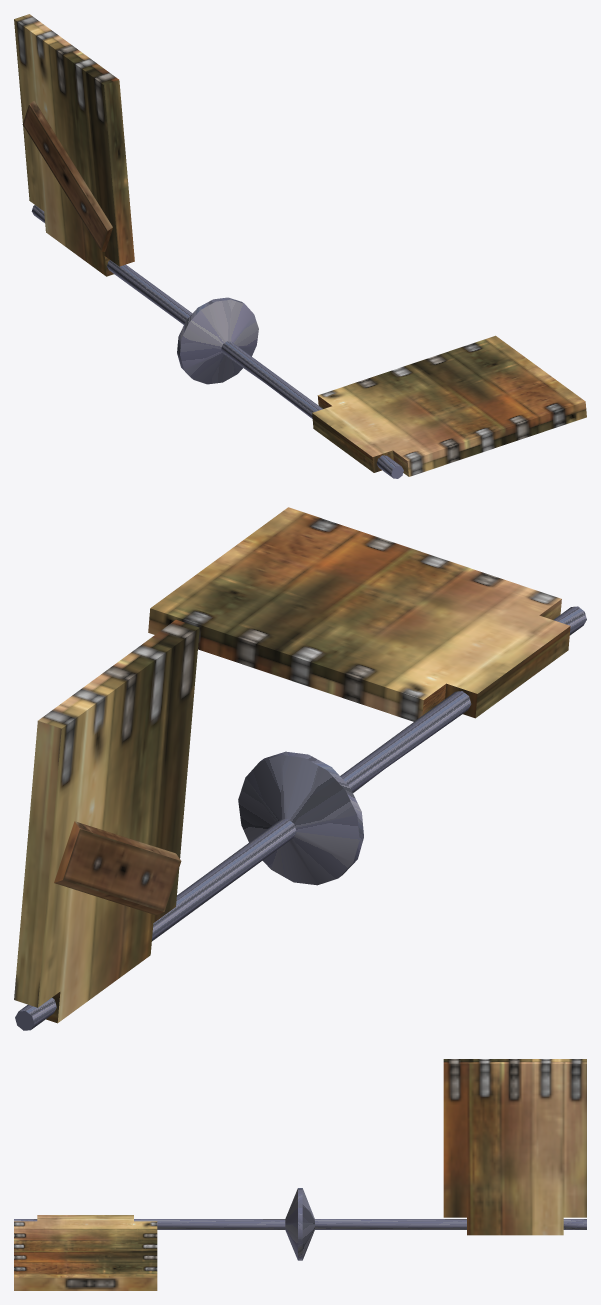
Rendered from P_Modul_19.FBX.
3 views of the same model, one above another, from view 1: azimuth 30°, elevation 25°; view 2: azimuth 150°, elevation 25°; view 3: azimuth 270°, elevation 25° (orthographic). The views are drawn at different scales.
Visible parts, largest first — view 1: P_Modul_19, P_Modul_19_Axis; view 2: P_Modul_19, P_Modul_19_Axis; view 3: P_Modul_19, P_Modul_19_Axis.
Boxes of the visible parts, x1,y1,x2,y2 form: P_Modul_19: (14,14,586,476); P_Modul_19_Axis: (31,205,403,478); P_Modul_19: (14,507,570,1023); P_Modul_19_Axis: (15,606,586,1030); P_Modul_19: (14,1059,586,1290); P_Modul_19_Axis: (14,1188,586,1260).
Bounding box in the file's own units: 7.35 × 7.33 × 20.
Materials: 3 (3 with a texture image).
